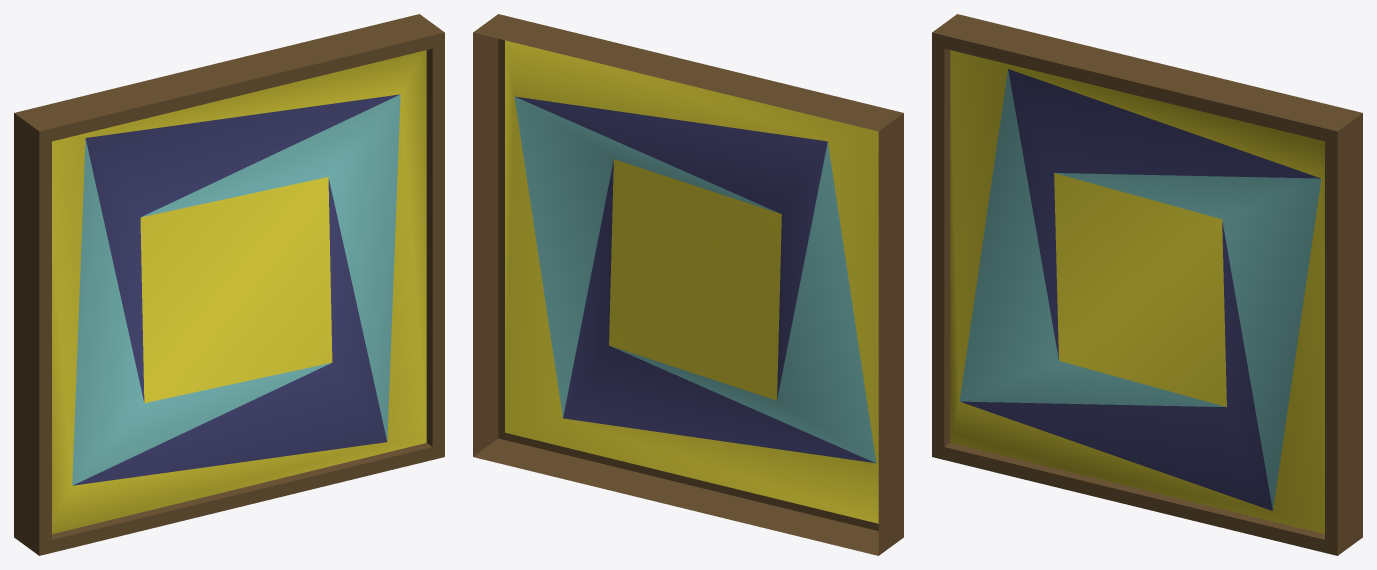
The model's file is picture2.fbx.
The picture shows the model from 3 angles, left to right: view 1: azimuth 30°, elevation 25°; view 2: azimuth 150°, elevation 25°; view 3: azimuth 330°, elevation 25°; orthographic projection.
Visible parts, largest first — view 1: picture2; view 2: picture2; view 3: picture2.
Boxes of the visible parts, left/top/right/bottom form: picture2: left=14, top=14, right=444, bottom=555; picture2: left=473, top=14, right=903, bottom=555; picture2: left=932, top=14, right=1362, bottom=555.
Bounding box in the file's own units: 29.37 × 29.37 × 3.62.
